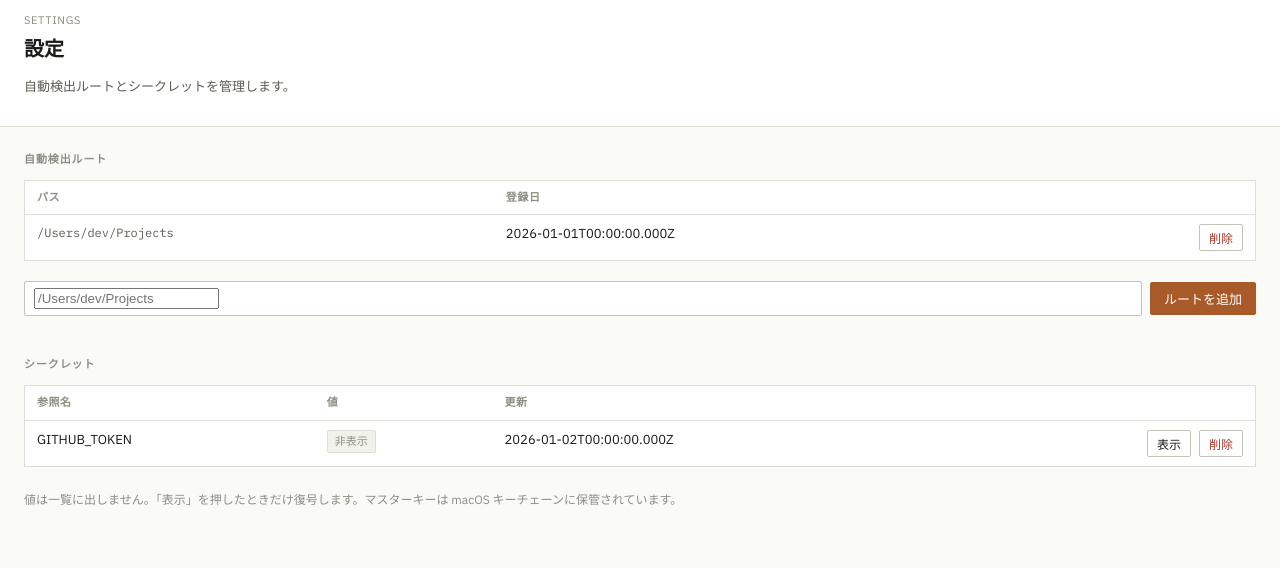
Test: Settings › adds an auto-detect root and reloads the list
The width and height of the screenshot is (1280, 568).
Check: the text "/Users/dev/Projects" is shown, box [25, 215, 494, 260]
Type "/Users/dev/Other" into the field labelled "/Users/dev/Projects" at (126, 299), box [34, 288, 219, 309]
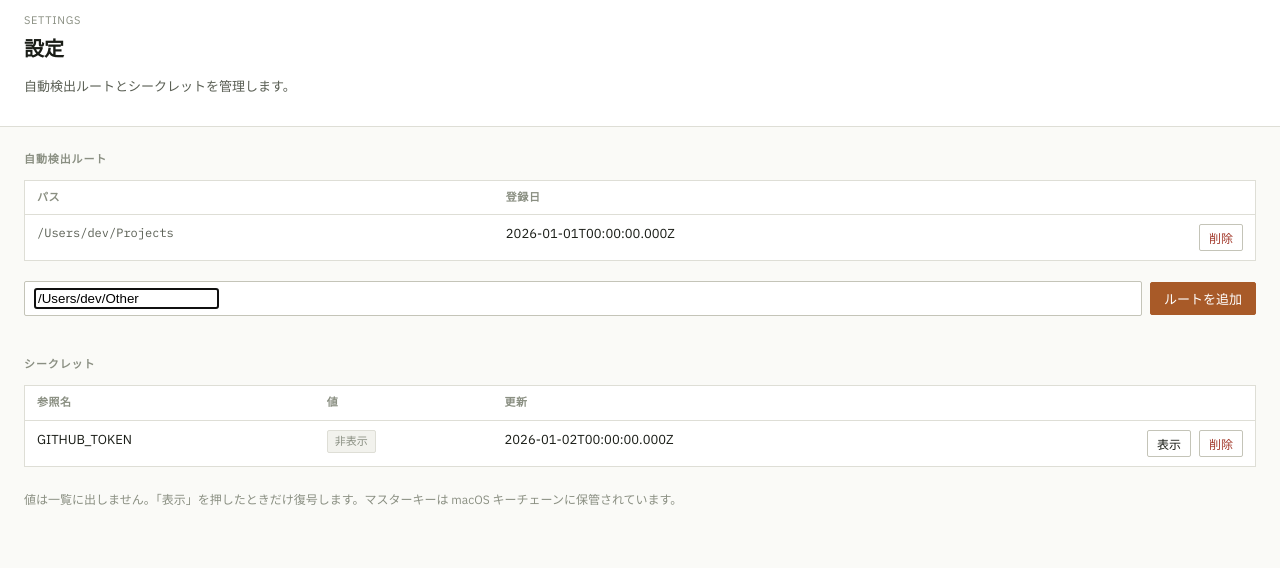
Click the button "ルートを追加" at (1203, 299), box [1150, 282, 1256, 315]
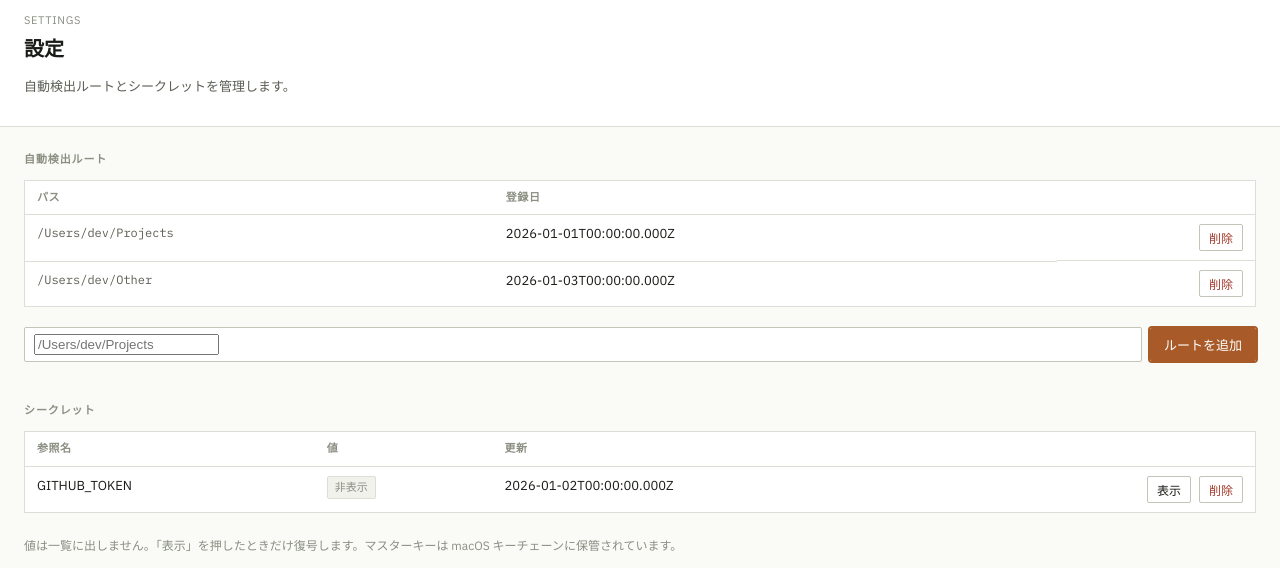
Check: the text "/Users/dev/Other" is shown, box [25, 261, 494, 306]
